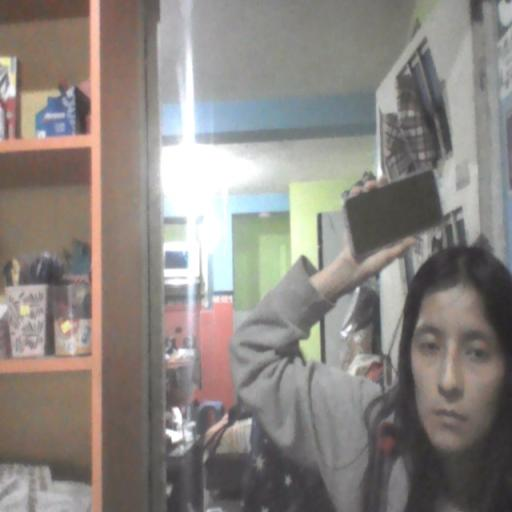phone: (341, 171, 444, 265)
